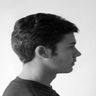ear: (32, 40, 52, 64)
